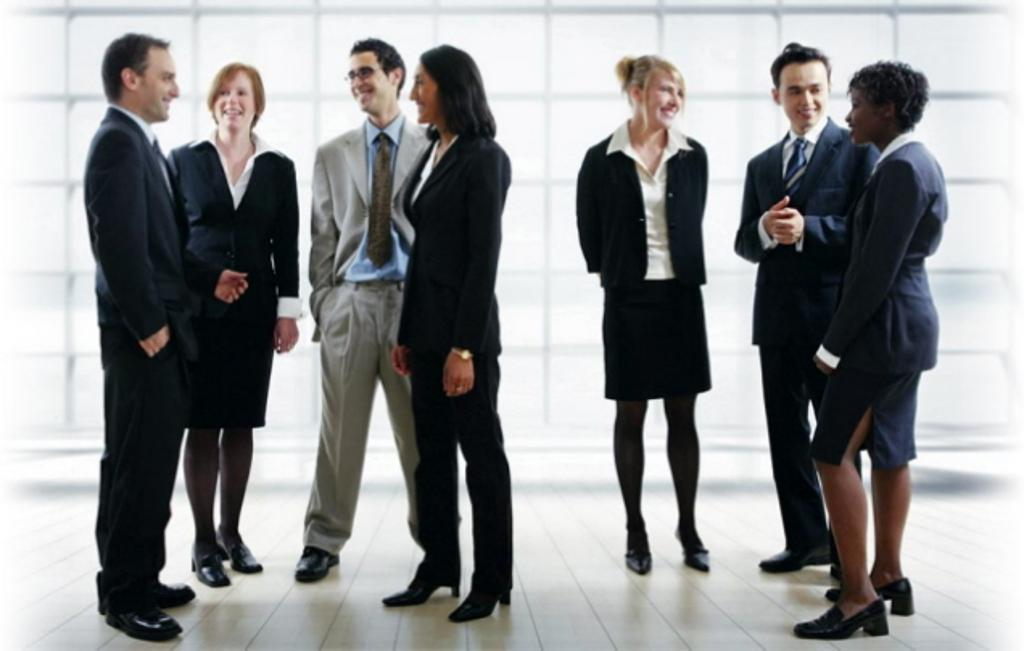face: (778, 69, 828, 125), (134, 55, 179, 117), (346, 58, 392, 110), (641, 75, 684, 124), (215, 74, 254, 127), (844, 88, 882, 142), (408, 66, 443, 123)
